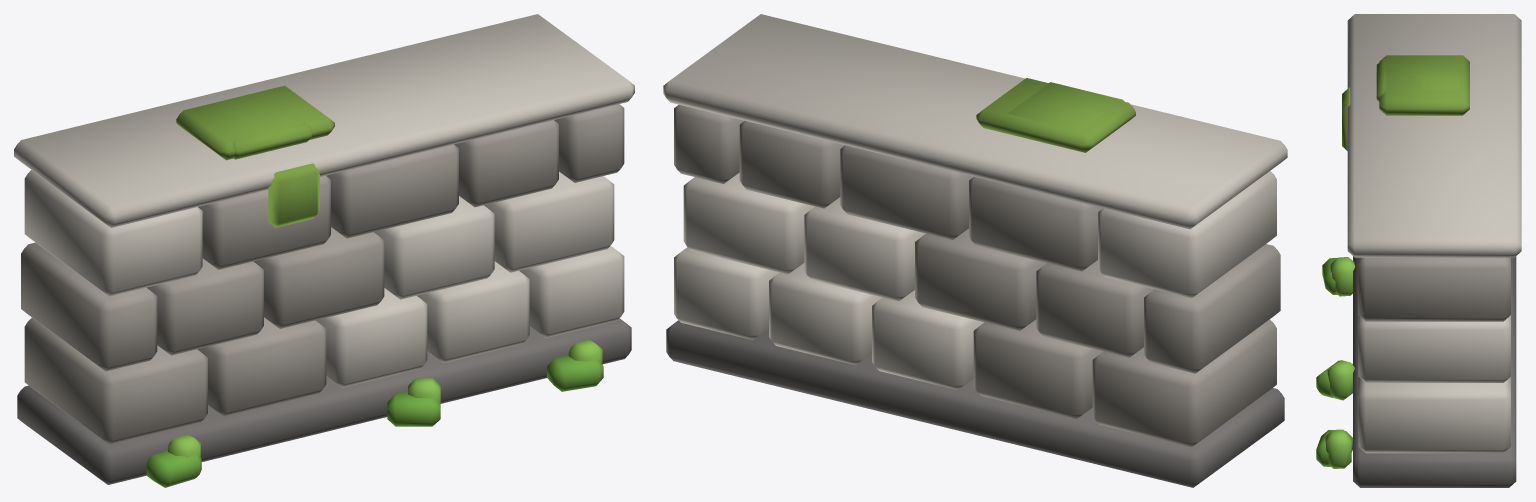
File: B_MedStoneWall.fbx
3 renders of one model, left to right at view 1: azimuth 30°, elevation 25°; view 2: azimuth 150°, elevation 25°; view 3: azimuth 270°, elevation 25°, orthographic. The views are drawn at different scales.
Visible parts, largest first — view 1: M_StoneWall; view 2: M_StoneWall; view 3: M_StoneWall.
Part boxes in pixels (left/top/right/bottom): M_StoneWall: left=14, top=14, right=634, bottom=487; M_StoneWall: left=663, top=14, right=1287, bottom=487; M_StoneWall: left=1316, top=14, right=1521, bottom=487.
Bounding box in the file's own units: 3 × 1.62 × 1.13.
1 material, 1 textured.
